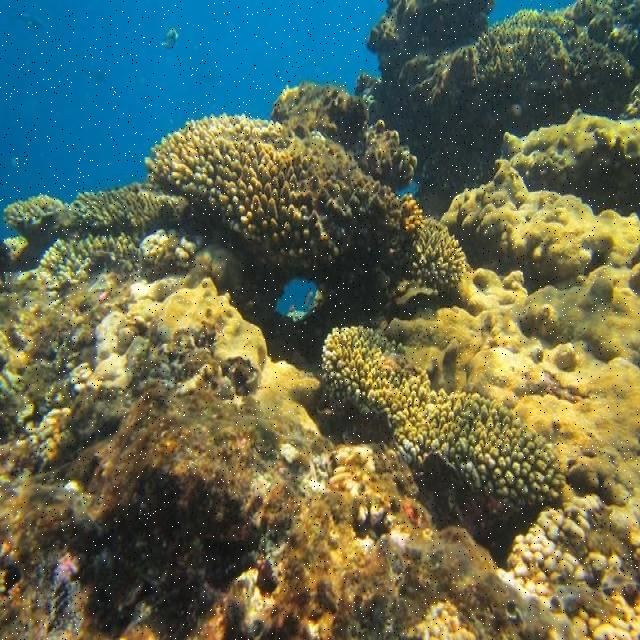reefs: (7, 112, 463, 286), (321, 328, 560, 517)
